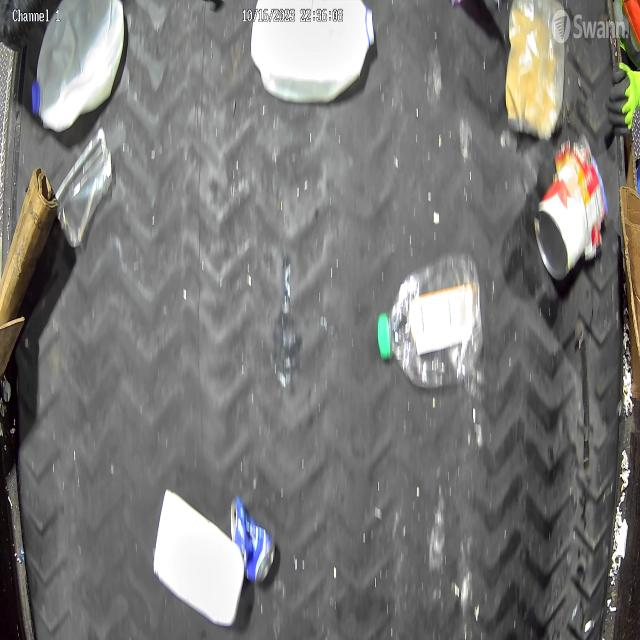can: (533, 132, 609, 282), (227, 492, 275, 588)
milk_jug: (32, 1, 126, 132), (252, 5, 376, 104)
plastic_bottle: (377, 254, 484, 392)
